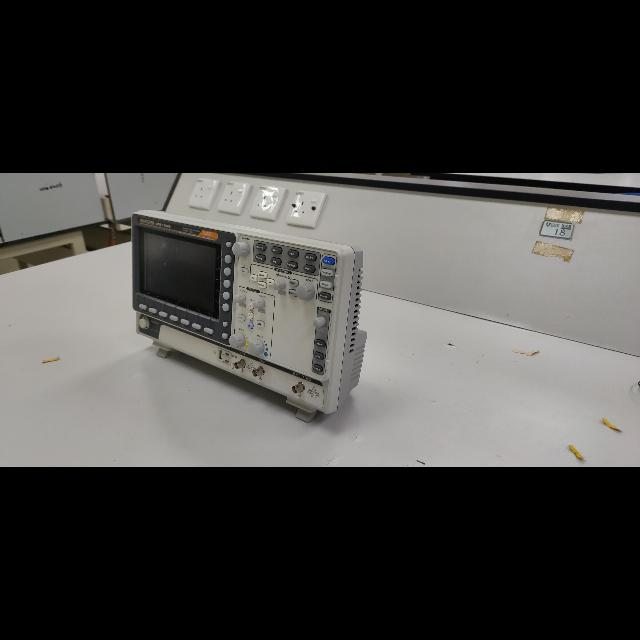Digital-Oscilloscope: (130, 210, 366, 422)
